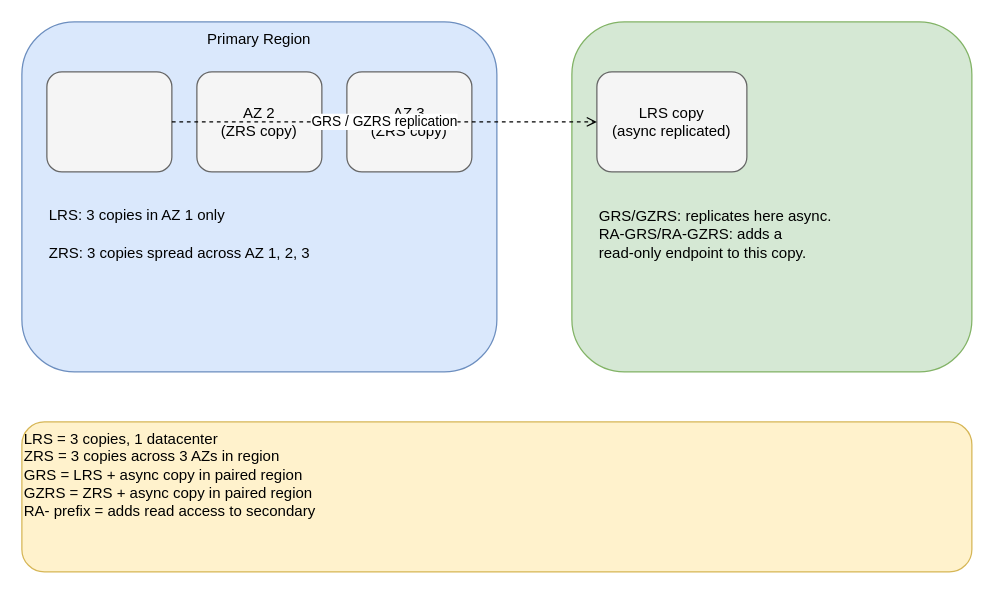
Image size: 994x594. Some labels were removed from this diagram. The box of each missing label's shape, as (x1, y1, x2, y2) in pixels:
AZ 1 (3 copies - LRS): (46, 71, 172, 172)
Paired (Secondary) Region: (571, 21, 972, 372)
